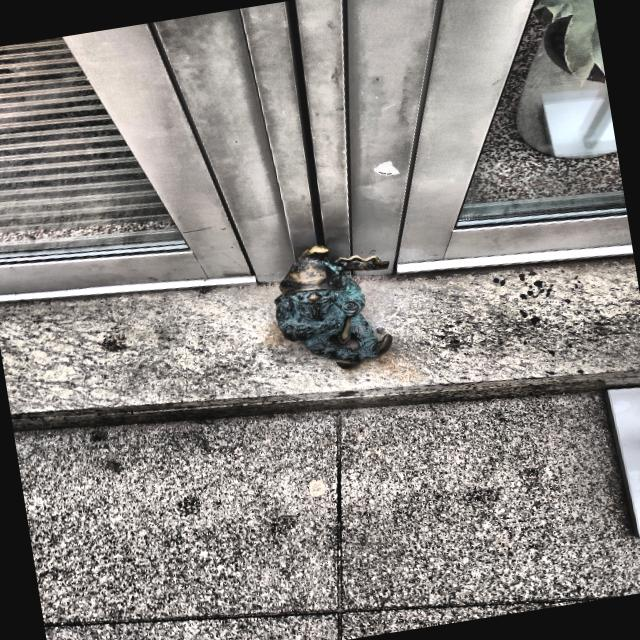Pieroznik: (274, 256, 393, 371)
